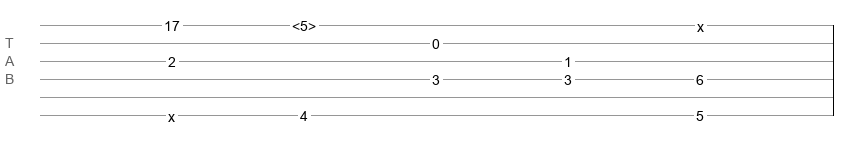0: (432, 36, 440, 46)
1: (564, 54, 572, 64)
17: (164, 18, 180, 28)
2: (168, 54, 176, 64)
3: (432, 72, 440, 82), (564, 72, 572, 82)
4: (300, 108, 308, 118)
5: (696, 108, 704, 118)
6: (696, 72, 704, 82)
harmonic: (292, 18, 316, 28)
x: (168, 109, 175, 117), (697, 19, 704, 27)
